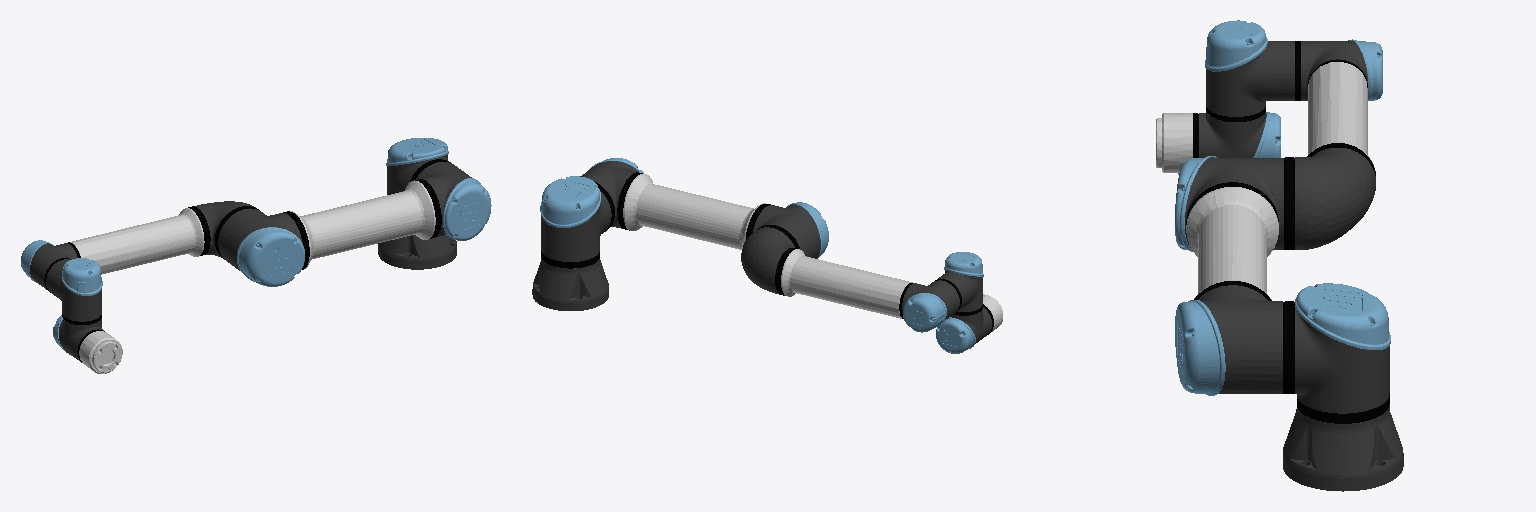
The robot description file, URDF, robot "ur5e":
<?xml version="1.0"?>
<robot name="ur5e">
  <material name="black"><color rgba="0.033 0.033 0.033 1"/></material>
  <material name="jointgray"><color rgba="0.278 0.278 0.278 1"/></material>
  <material name="linkgray"><color rgba="0.82 0.82 0.82 1"/></material>
  <material name="urblue"><color rgba="0.49 0.678 0.8 1"/></material>
  <link name="world"/>
  <link name="base_link">
    <visual>
      <origin xyz="0 0 0" rpy="0 0 0"/>
      <geometry><mesh filename="package://arm_control/meshes/ur5e/base_0.stl"/></geometry>
      <material name="black"><color rgba="0.033 0.033 0.033 1"/></material>
    </visual>
    <visual>
      <origin xyz="0 0 0" rpy="0 0 0"/>
      <geometry><mesh filename="package://arm_control/meshes/ur5e/base_1.stl"/></geometry>
      <material name="jointgray"><color rgba="0.278 0.278 0.278 1"/></material>
    </visual>
  </link>
  <joint name="world_fixed" type="fixed">
    <parent link="world"/><child link="base_link"/>
    <origin xyz="0 0 0" rpy="0 0 3.14159265"/>
  </joint>
  <link name="shoulder_link">
    <visual>
      <origin xyz="0 0 0" rpy="0 0 0"/>
      <geometry><mesh filename="package://arm_control/meshes/ur5e/shoulder_0.stl"/></geometry>
      <material name="urblue"><color rgba="0.49 0.678 0.8 1"/></material>
    </visual>
    <visual>
      <origin xyz="0 0 0" rpy="0 0 0"/>
      <geometry><mesh filename="package://arm_control/meshes/ur5e/shoulder_1.stl"/></geometry>
      <material name="black"><color rgba="0.033 0.033 0.033 1"/></material>
    </visual>
    <visual>
      <origin xyz="0 0 0" rpy="0 0 0"/>
      <geometry><mesh filename="package://arm_control/meshes/ur5e/shoulder_2.stl"/></geometry>
      <material name="jointgray"><color rgba="0.278 0.278 0.278 1"/></material>
    </visual>
  </link>
  <joint name="shoulder_pan_joint" type="revolute">
    <parent link="base_link"/>
    <child link="shoulder_link"/>
    <origin xyz="0 0 0.163" rpy="0 0 0"/>
    <axis xyz="0 0 1"/>
    <limit lower="-6.28319" upper="6.28319" effort="150" velocity="3.14"/>
  </joint>
  <link name="upper_arm_link">
    <visual>
      <origin xyz="0 0 0" rpy="0 0 0"/>
      <geometry><mesh filename="package://arm_control/meshes/ur5e/upperarm_0.stl"/></geometry>
      <material name="linkgray"><color rgba="0.82 0.82 0.82 1"/></material>
    </visual>
    <visual>
      <origin xyz="0 0 0" rpy="0 0 0"/>
      <geometry><mesh filename="package://arm_control/meshes/ur5e/upperarm_1.stl"/></geometry>
      <material name="black"><color rgba="0.033 0.033 0.033 1"/></material>
    </visual>
    <visual>
      <origin xyz="0 0 0" rpy="0 0 0"/>
      <geometry><mesh filename="package://arm_control/meshes/ur5e/upperarm_2.stl"/></geometry>
      <material name="jointgray"><color rgba="0.278 0.278 0.278 1"/></material>
    </visual>
    <visual>
      <origin xyz="0 0 0" rpy="0 0 0"/>
      <geometry><mesh filename="package://arm_control/meshes/ur5e/upperarm_3.stl"/></geometry>
      <material name="urblue"><color rgba="0.49 0.678 0.8 1"/></material>
    </visual>
  </link>
  <joint name="shoulder_lift_joint" type="revolute">
    <parent link="shoulder_link"/>
    <child link="upper_arm_link"/>
    <origin xyz="0 0.138 0" rpy="3.14159265 1.57079633 3.14159265"/>
    <axis xyz="0 1 0"/>
    <limit lower="-6.28319" upper="6.28319" effort="150" velocity="3.14"/>
  </joint>
  <link name="forearm_link">
    <visual>
      <origin xyz="0 0 0" rpy="0 0 0"/>
      <geometry><mesh filename="package://arm_control/meshes/ur5e/forearm_0.stl"/></geometry>
      <material name="urblue"><color rgba="0.49 0.678 0.8 1"/></material>
    </visual>
    <visual>
      <origin xyz="0 0 0" rpy="0 0 0"/>
      <geometry><mesh filename="package://arm_control/meshes/ur5e/forearm_1.stl"/></geometry>
      <material name="linkgray"><color rgba="0.82 0.82 0.82 1"/></material>
    </visual>
    <visual>
      <origin xyz="0 0 0" rpy="0 0 0"/>
      <geometry><mesh filename="package://arm_control/meshes/ur5e/forearm_2.stl"/></geometry>
      <material name="black"><color rgba="0.033 0.033 0.033 1"/></material>
    </visual>
    <visual>
      <origin xyz="0 0 0" rpy="0 0 0"/>
      <geometry><mesh filename="package://arm_control/meshes/ur5e/forearm_3.stl"/></geometry>
      <material name="jointgray"><color rgba="0.278 0.278 0.278 1"/></material>
    </visual>
  </link>
  <joint name="elbow_joint" type="revolute">
    <parent link="upper_arm_link"/>
    <child link="forearm_link"/>
    <origin xyz="0 -0.131 0.425" rpy="0 0 0"/>
    <axis xyz="0 1 0"/>
    <limit lower="-3.1415" upper="3.1415" effort="150" velocity="3.14"/>
  </joint>
  <link name="wrist_1_link">
    <visual>
      <origin xyz="0 0 0" rpy="0 0 0"/>
      <geometry><mesh filename="package://arm_control/meshes/ur5e/wrist1_0.stl"/></geometry>
      <material name="black"><color rgba="0.033 0.033 0.033 1"/></material>
    </visual>
    <visual>
      <origin xyz="0 0 0" rpy="0 0 0"/>
      <geometry><mesh filename="package://arm_control/meshes/ur5e/wrist1_1.stl"/></geometry>
      <material name="urblue"><color rgba="0.49 0.678 0.8 1"/></material>
    </visual>
    <visual>
      <origin xyz="0 0 0" rpy="0 0 0"/>
      <geometry><mesh filename="package://arm_control/meshes/ur5e/wrist1_2.stl"/></geometry>
      <material name="jointgray"><color rgba="0.278 0.278 0.278 1"/></material>
    </visual>
  </link>
  <joint name="wrist_1_joint" type="revolute">
    <parent link="forearm_link"/>
    <child link="wrist_1_link"/>
    <origin xyz="0 0 0.392" rpy="3.14159265 1.57079633 3.14159265"/>
    <axis xyz="0 1 0"/>
    <limit lower="-6.28319" upper="6.28319" effort="150" velocity="3.14"/>
  </joint>
  <link name="wrist_2_link">
    <visual>
      <origin xyz="0 0 0" rpy="0 0 0"/>
      <geometry><mesh filename="package://arm_control/meshes/ur5e/wrist2_0.stl"/></geometry>
      <material name="black"><color rgba="0.033 0.033 0.033 1"/></material>
    </visual>
    <visual>
      <origin xyz="0 0 0" rpy="0 0 0"/>
      <geometry><mesh filename="package://arm_control/meshes/ur5e/wrist2_1.stl"/></geometry>
      <material name="urblue"><color rgba="0.49 0.678 0.8 1"/></material>
    </visual>
    <visual>
      <origin xyz="0 0 0" rpy="0 0 0"/>
      <geometry><mesh filename="package://arm_control/meshes/ur5e/wrist2_2.stl"/></geometry>
      <material name="jointgray"><color rgba="0.278 0.278 0.278 1"/></material>
    </visual>
  </link>
  <joint name="wrist_2_joint" type="revolute">
    <parent link="wrist_1_link"/>
    <child link="wrist_2_link"/>
    <origin xyz="0 0.127 0" rpy="0 0 0"/>
    <axis xyz="0 0 1"/>
    <limit lower="-6.28319" upper="6.28319" effort="150" velocity="3.14"/>
  </joint>
  <link name="wrist_3_link">
    <visual>
      <origin xyz="0 0 0" rpy="0 0 0"/>
      <geometry><mesh filename="package://arm_control/meshes/ur5e/wrist3.stl"/></geometry>
      <material name="linkgray"><color rgba="0.82 0.82 0.82 1"/></material>
    </visual>
  </link>
  <joint name="wrist_3_joint" type="revolute">
    <parent link="wrist_2_link"/>
    <child link="wrist_3_link"/>
    <origin xyz="0 0 0.1" rpy="0 0 0"/>
    <axis xyz="0 1 0"/>
    <limit lower="-6.28319" upper="6.28319" effort="150" velocity="3.14"/>
  </joint>
</robot>

--- What the picture shows (computed from the rendered views, not written in the file) ---
The picture shows the robot from 3 angles, left to right: view 1: azimuth 30°, elevation 25°; view 2: azimuth 150°, elevation 25°; view 3: azimuth 270°, elevation 25°; orthographic projection.
Robot: ur5e — 8 links, 7 joints (6 revolute, 1 fixed); root link world; default pose: every joint at zero.
Links seen in each view (by area): view 1: upper_arm_link, forearm_link, wrist_1_link, shoulder_link, base_link, wrist_3_link, wrist_2_link; view 2: upper_arm_link, forearm_link, shoulder_link, base_link, wrist_1_link, wrist_2_link; view 3: upper_arm_link, forearm_link, shoulder_link, base_link, wrist_1_link, wrist_2_link, wrist_3_link.
Boxes of the visible links, left/top/right/bottom form: upper_arm_link: left=215, top=162, right=491, bottom=286; forearm_link: left=21, top=201, right=255, bottom=292; wrist_1_link: left=46, top=258, right=102, bottom=324; shoulder_link: left=386, top=138, right=450, bottom=194; base_link: left=378, top=235, right=456, bottom=269; wrist_3_link: left=79, top=331, right=122, bottom=373; wrist_2_link: left=53, top=315, right=104, bottom=362; upper_arm_link: left=580, top=158, right=828, bottom=258; forearm_link: left=741, top=227, right=961, bottom=332; shoulder_link: left=540, top=176, right=614, bottom=261; base_link: left=532, top=251, right=608, bottom=310; wrist_1_link: left=937, top=252, right=983, bottom=315; wrist_2_link: left=936, top=304, right=993, bottom=353; upper_arm_link: left=1175, top=156, right=1294, bottom=395; forearm_link: left=1295, top=39, right=1382, bottom=249; shoulder_link: left=1283, top=283, right=1390, bottom=413; base_link: left=1283, top=394, right=1403, bottom=491; wrist_1_link: left=1205, top=20, right=1294, bottom=121; wrist_2_link: left=1193, top=111, right=1280, bottom=157; wrist_3_link: left=1156, top=113, right=1192, bottom=174.
Bounding box of the posed robot: 0.9318 × 0.3085 × 0.2345 m (x, y, z).
20 mesh visuals loaded from 20 distinct referenced files (20 binary STL).
